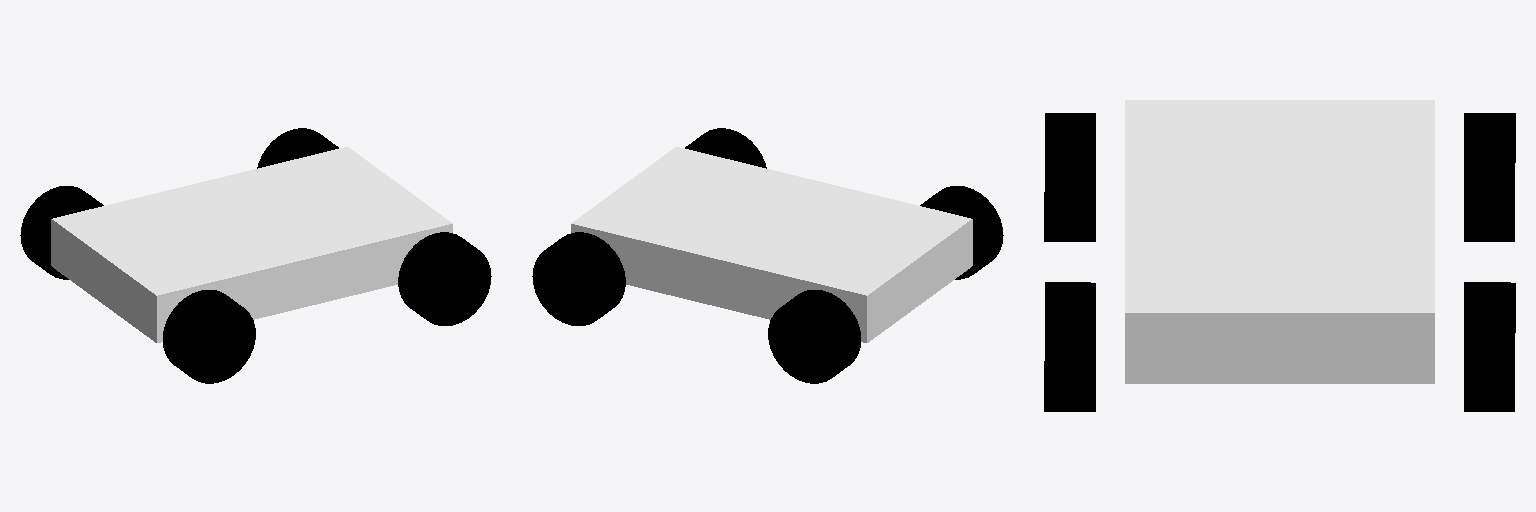
URDF robot description (wheeltec_robot):
<?xml version="1.0" ?>
<robot name="wheeltec_robot">

    <link name="base_link">
        <visual>
            <origin xyz=" 0.15 0 0.065" rpy="0 0 0" />
            <geometry>
                <box size="0.39 0.24 0.06"/>
            </geometry>
            <material name="white">
                <color rgba="255 1 1 1"/>
            </material>
        </visual>
    </link>   

    <joint name="left_wheel_joint" type="continuous">
        <origin xyz="0 0.162 0.05" rpy="1.57 0 0"/>
        <parent link="base_link"/>
        <child link="left_wheel_link"/>
        <axis xyz="0 1 0"/>
    </joint>

    <link name="left_wheel_link">
        <visual>
            <origin xyz="0 0 0" rpy="0 0 0" />
            <geometry>
                <cylinder radius="0.05" length = "0.04"/>
            </geometry>
            <material name="black">
                <color rgba="0 0 0 1"/>
            </material>
        </visual>
    </link>

    <joint name="right_wheel_joint" type="continuous">
        <origin xyz="0 -0.162 0.05" rpy="1.57 0 0"/>
        <parent link="base_link"/>
        <child link="right_wheel_link"/>
        <axis xyz="0 1 0"/>
    </joint>

    <link name="right_wheel_link">
        <visual>
            <origin xyz="0 0 0" rpy="0 0 0" />
            <geometry>
                <cylinder radius="0.05" length = "0.04"/>
            </geometry>
            <material name="black">
                <color rgba="0 0 0 1"/>
            </material>
        </visual>
    </link>

      <joint name="left_front_joint" type="continuous">
        <origin xyz="0.31 0.162 0.05" rpy="1.57 0 0"/>
        <parent link="base_link"/>
        <child link="left_front_link"/>
        <axis xyz="0 1 0"/>
    </joint>

    <link name="left_front_link">
        <visual>
            <origin xyz="0 0 0" rpy="0 0 0" />
            <geometry>
                <cylinder radius="0.05" length = "0.04"/>
            </geometry>
            <material name="black">
                <color rgba="0 0 0 1"/>
            </material>
        </visual>
    </link>

    <joint name="right_front_joint" type="continuous">
        <origin xyz="0.31 -0.162 0.05" rpy="1.57 0 0"/>
        <parent link="base_link"/>
        <child link="right_front_link"/>
        <axis xyz="0 1 0"/>
    </joint>

    <link name="right_front_link">
        <visual>
            <origin xyz="0 0 0" rpy="0 0 0" />
            <geometry>
                <cylinder radius="0.05" length = "0.04"/>
            </geometry>
            <material name="black">
                <color rgba="0 0 0 1"/>
            </material>
        </visual>
    </link>


</robot>

--- Render facts (derived) ---
The picture shows the robot from 3 angles, left to right: view 1: azimuth 30°, elevation 25°; view 2: azimuth 150°, elevation 25°; view 3: azimuth 270°, elevation 25°; orthographic projection.
Model wheeltec_robot with 5 links and 4 joints (4 continuous), rooted at base_link, posed all joints at 0.
Links seen in each view (by area): view 1: base_link, right_wheel_link, right_front_link, left_wheel_link, left_front_link; view 2: base_link, left_wheel_link, left_front_link, right_wheel_link, right_front_link; view 3: base_link, left_front_link, right_front_link, left_wheel_link, right_wheel_link.
Boxes of the visible links, x1=… form: base_link: x1=51, y1=147, x2=452, y2=342; right_wheel_link: x1=163, y1=290, x2=255, y2=383; right_front_link: x1=398, y1=232, x2=491, y2=325; left_wheel_link: x1=20, y1=186, x2=103, y2=279; left_front_link: x1=257, y1=128, x2=338, y2=168; base_link: x1=571, y1=147, x2=972, y2=342; left_wheel_link: x1=768, y1=290, x2=860, y2=383; left_front_link: x1=532, y1=232, x2=625, y2=325; right_wheel_link: x1=920, y1=186, x2=1003, y2=279; right_front_link: x1=685, y1=128, x2=766, y2=168; base_link: x1=1125, y1=100, x2=1434, y2=383; left_front_link: x1=1464, y1=282, x2=1515, y2=411; right_front_link: x1=1044, y1=282, x2=1095, y2=411; left_wheel_link: x1=1464, y1=113, x2=1515, y2=241; right_wheel_link: x1=1044, y1=113, x2=1095, y2=241.
Bounding box of the posed robot: 0.41 × 0.3641 × 0.1 m (x, y, z).
Geometry: primitives only (box / cylinder / sphere), no mesh files.